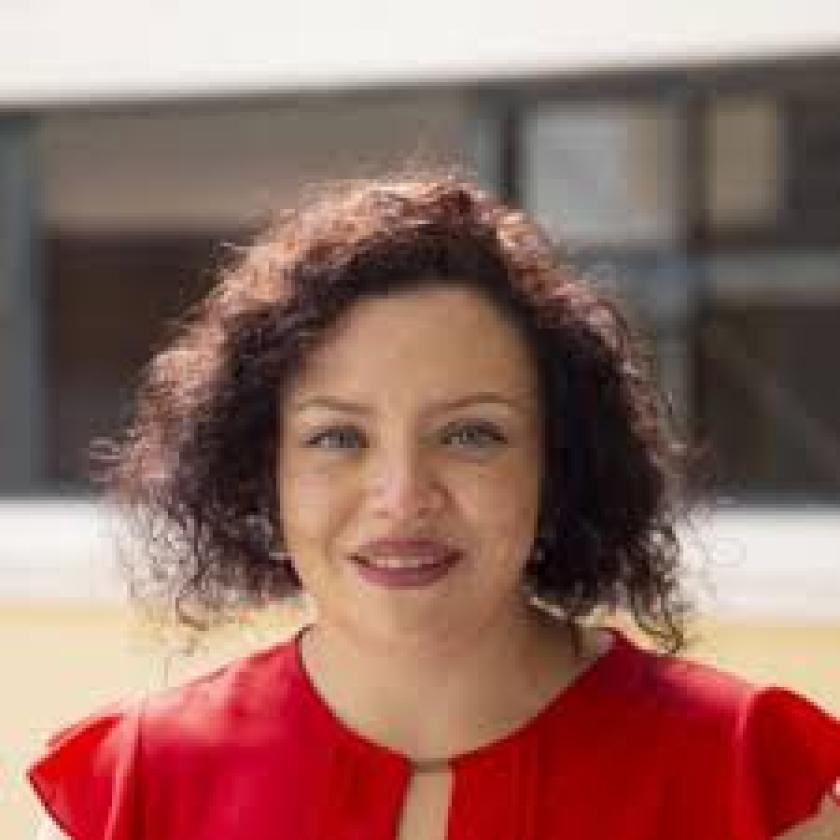Sin_casco: (107, 148, 705, 649)
